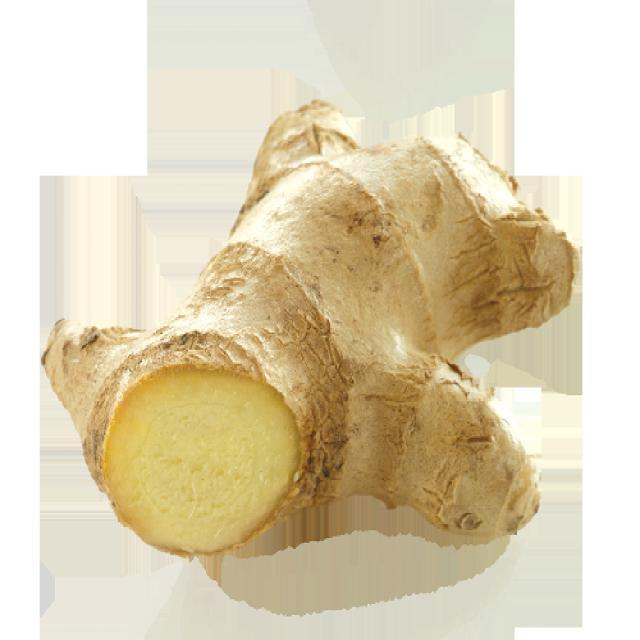ginger: (43, 99, 576, 556)
